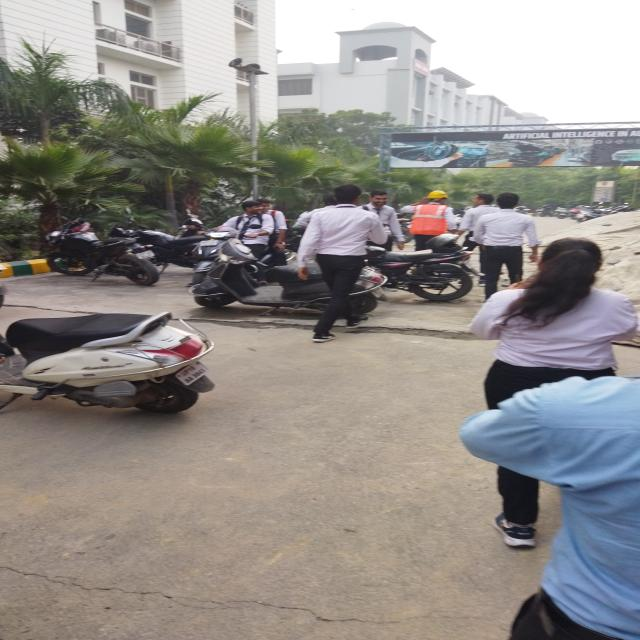safe: (407, 188, 461, 250)
unsafe: (476, 236, 640, 549), (292, 184, 380, 344), (474, 192, 540, 296), (219, 198, 271, 262), (366, 187, 404, 254), (464, 192, 499, 233)
